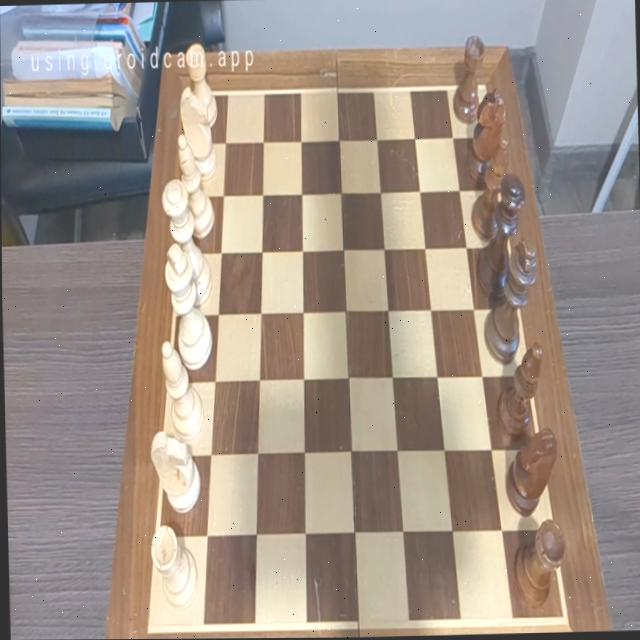black_bishop: (494, 342, 545, 444), (469, 132, 510, 242)
black_king: (481, 236, 539, 365)
black_knight: (503, 426, 558, 514), (465, 89, 507, 184)
black_queen: (473, 172, 528, 303)
black_rook: (511, 519, 567, 608), (451, 35, 486, 126)
white_bishop: (158, 341, 204, 442), (177, 132, 214, 240)
white_king: (163, 242, 213, 371)
white_knight: (149, 431, 200, 515), (180, 86, 217, 182)
white_queen: (161, 178, 212, 309)
white_rook: (150, 524, 198, 611), (184, 42, 218, 130)
